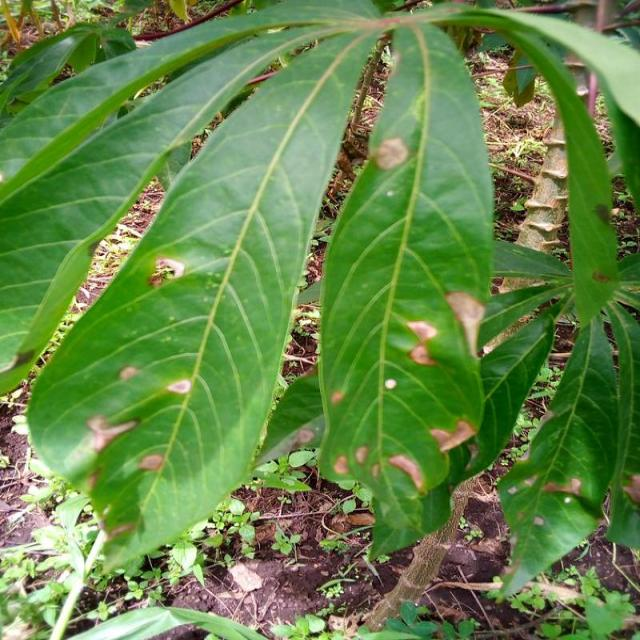cassava leaf: (22, 2, 386, 579), (316, 16, 495, 560)
